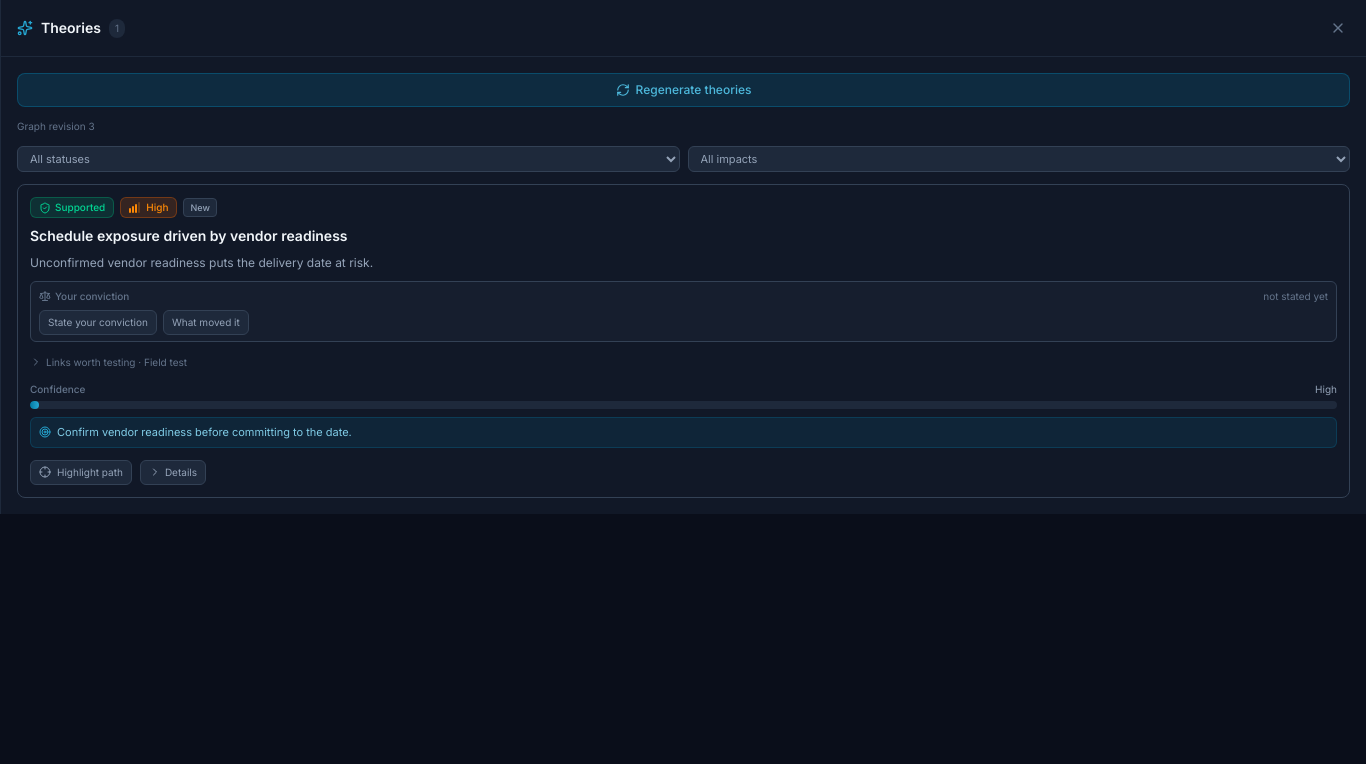
Test: Theory panel: tripwires › explains why tripwires exist
What coordinates should you click on to do the following:
click the button "Details"
I would click on:
 (173, 472)
Its box is x1=140 y1=460 x2=206 y2=485.
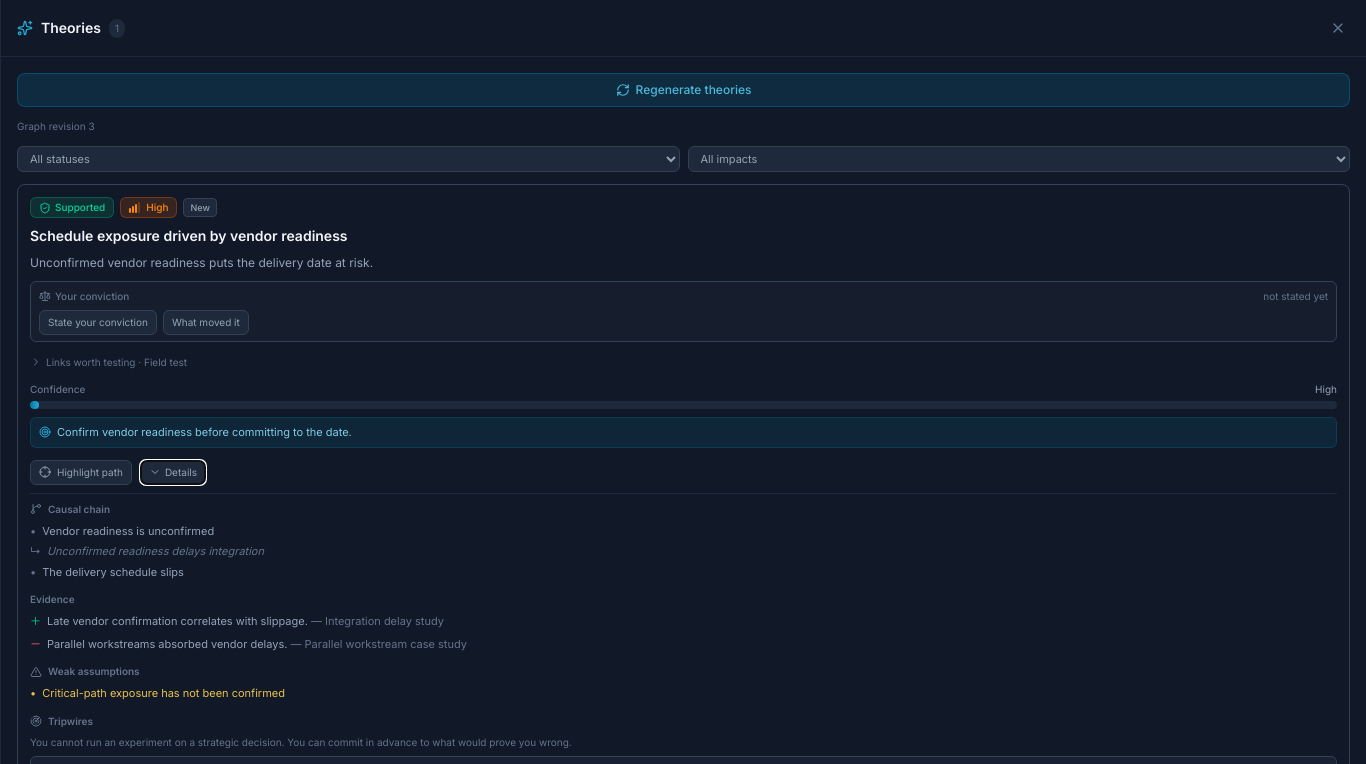
Check: the text "commit in advance to what would prove you wrong" is shown, box x1=30 y1=736 x2=572 y2=748
